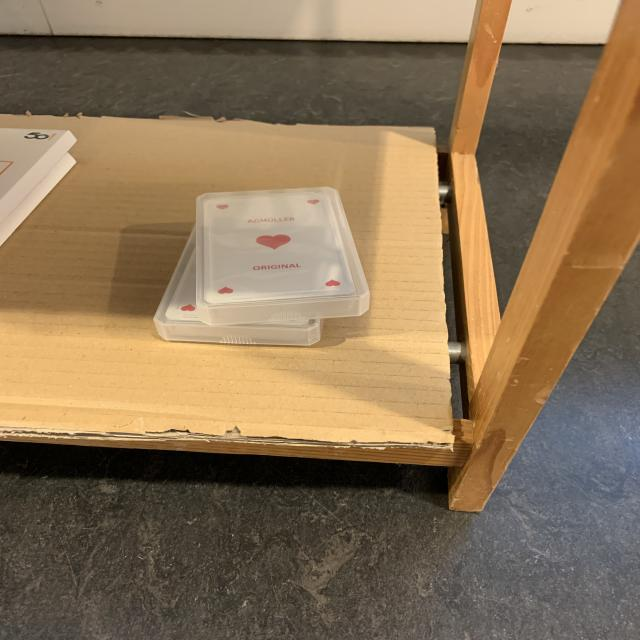Jasskarte: (191, 187, 369, 325), (154, 230, 323, 346)
